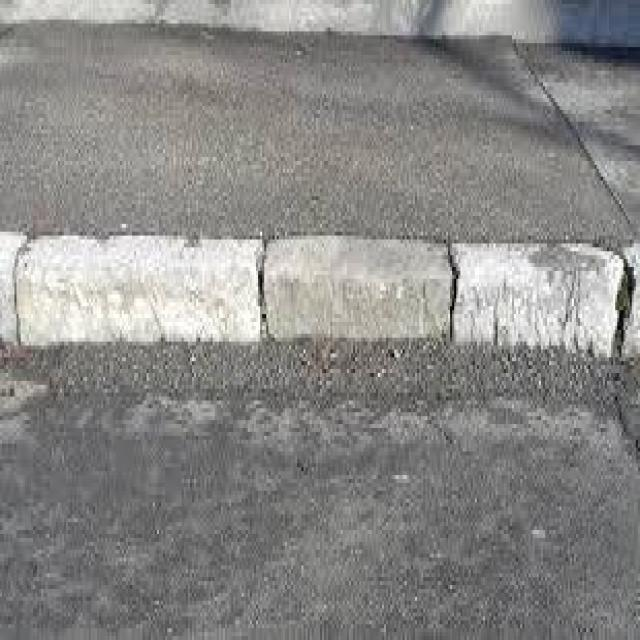curb: (12, 231, 276, 353), (258, 228, 455, 347), (448, 240, 631, 353)
